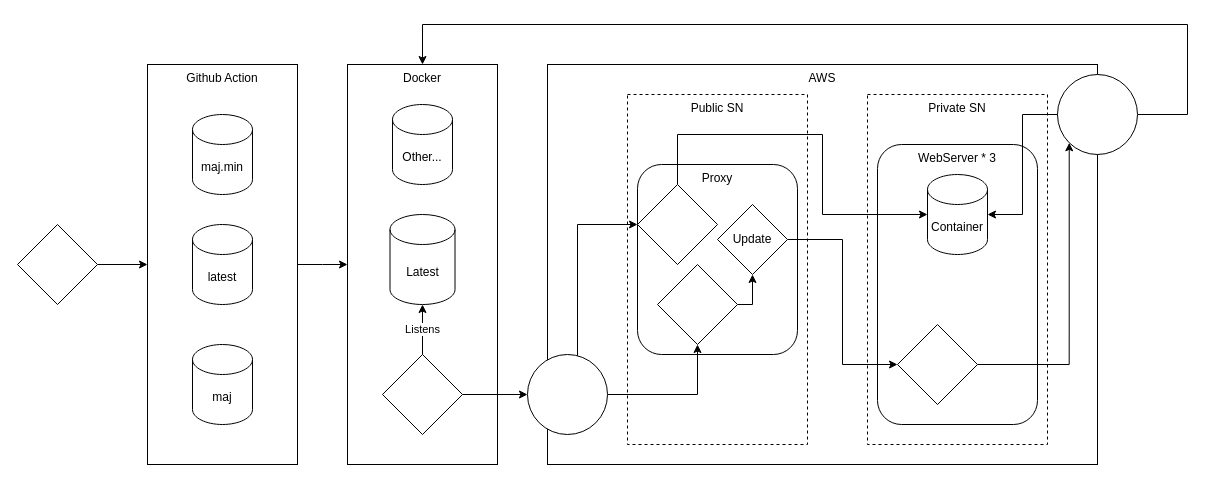
Some shapes in this 1213 by 482 pixel diagram are drawn without their labels. The centre of each missing label's shape, as x and y in pixels:
Ananh's: point 697,304
DockerSwap: point 937,364
HaProxy: point 677,224
IGW: point 567,394
NAT: point 1097,114
Tag Push: point 57,264
Webhook: point 422,394
